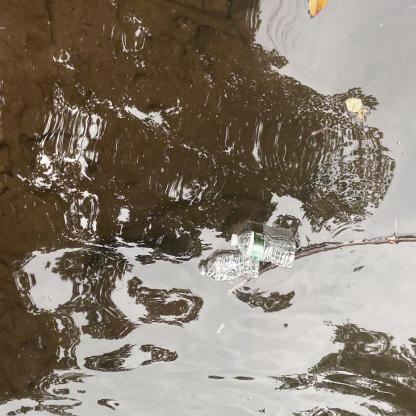Plastic: (227, 226, 299, 273), (195, 250, 262, 284)
